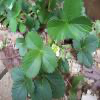Strawberry leaf: (20, 49, 42, 80), (66, 16, 93, 41), (45, 67, 66, 99), (41, 46, 59, 76), (45, 19, 68, 42), (62, 0, 84, 22), (31, 76, 52, 99), (25, 30, 43, 51), (82, 33, 99, 53), (77, 49, 94, 68), (11, 80, 27, 99), (23, 76, 38, 95), (10, 65, 25, 82), (71, 38, 84, 51)
